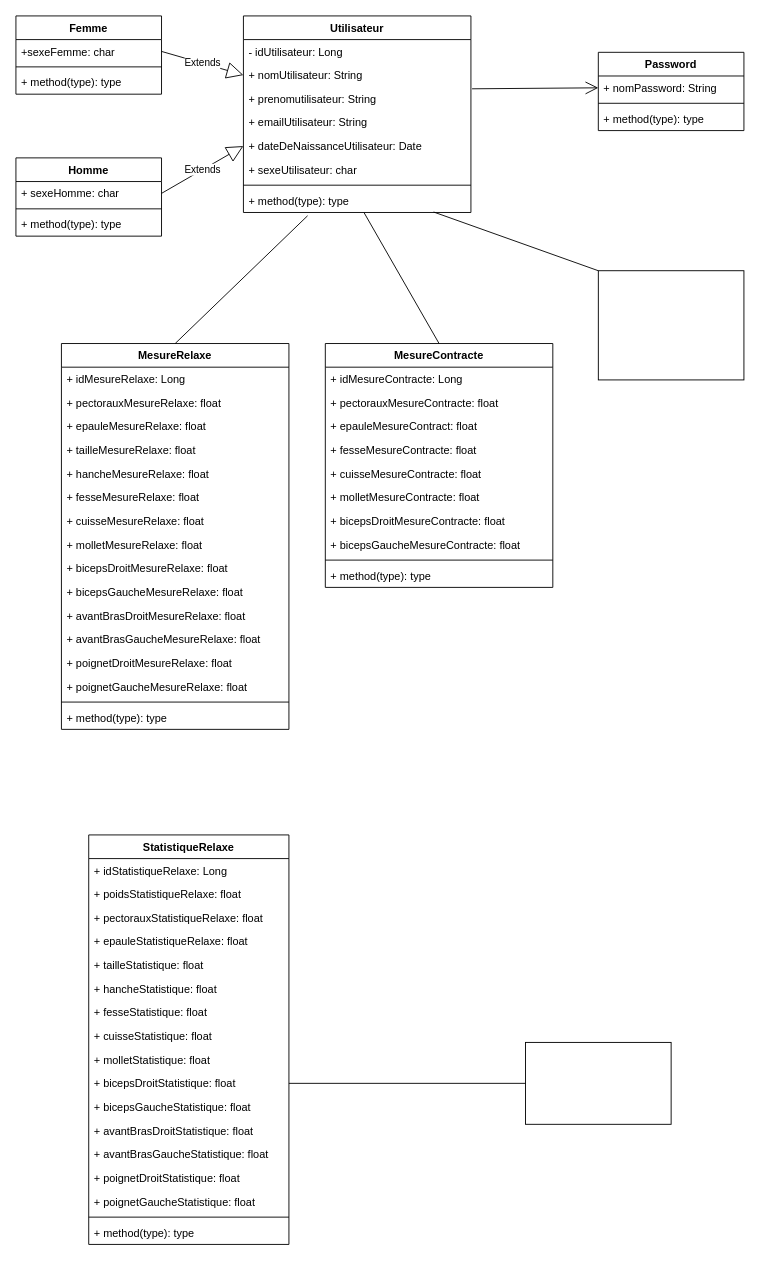
Image size: 760x1263. Some labels were removed from this diagram. Here are the shapes that lost their labels. From the top down, the centre of each, then its label:
the point at 670,325: Photo + field: Type + method(): Type
the point at 598,1082: Conseil + : Type + method(): Type
